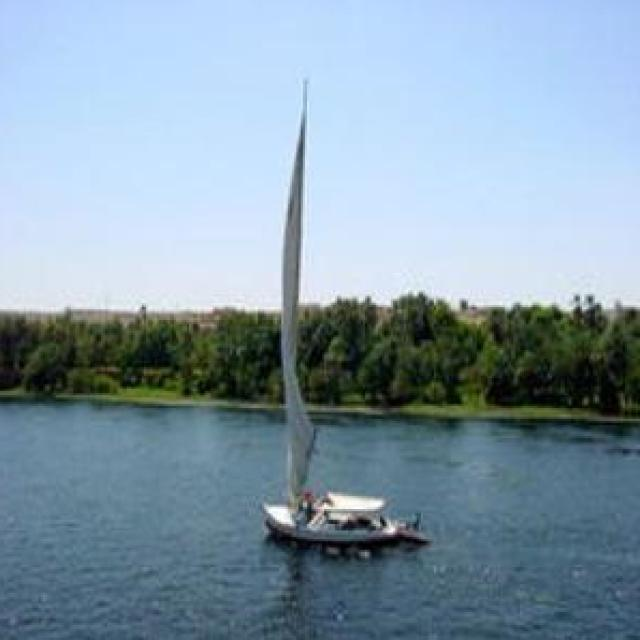sailboat: (259, 73, 460, 544)
